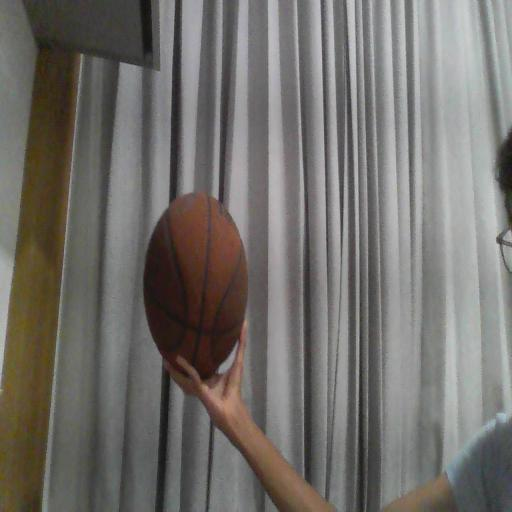basketball: (144, 193, 247, 378)
